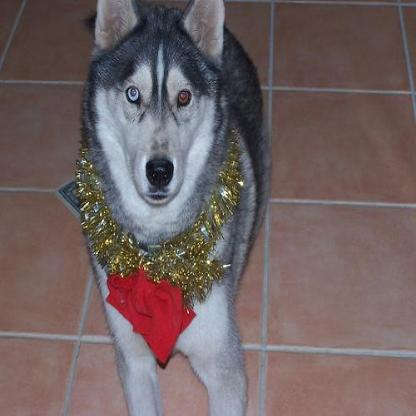Siberian_husky: (74, 0, 271, 414)
